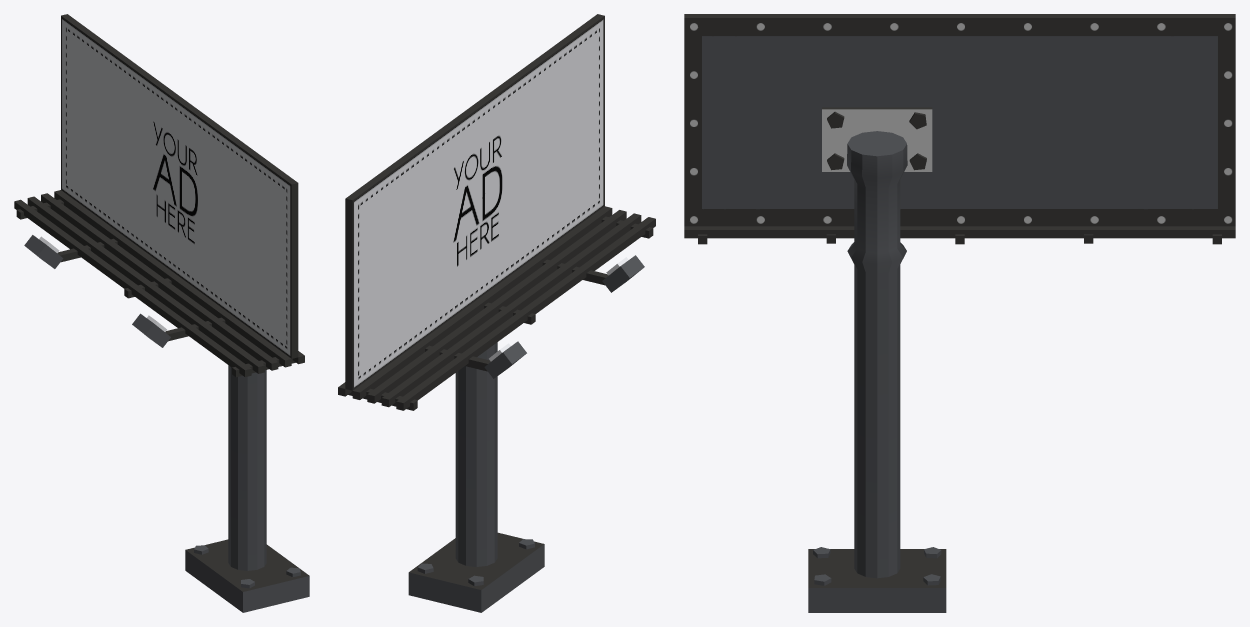
The model's file is Billboard 1.obj.
3 renders of one model, left to right at view 1: azimuth 30°, elevation 25°; view 2: azimuth 150°, elevation 25°; view 3: azimuth 270°, elevation 25°, orthographic. The views are drawn at different scales.
Parts seen in each view (by area): view 1: Billboard1; view 2: Billboard1; view 3: Billboard1.
Part boxes in pixels (x1=…): Billboard1: x1=14, y1=14, x2=309, y2=612; Billboard1: x1=338, y1=14, x2=655, y2=612; Billboard1: x1=684, y1=14, x2=1235, y2=612.
Size of the model in its own units: 242 by 670 by 600.
